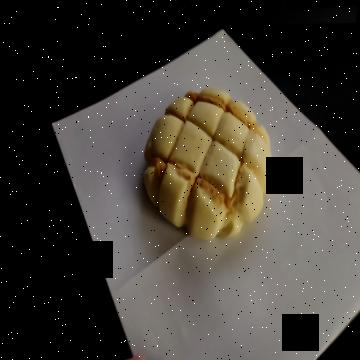melon_bread: (143, 88, 268, 240)
